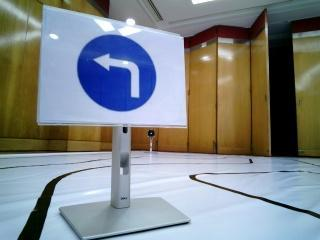left: (56, 32, 173, 122)
